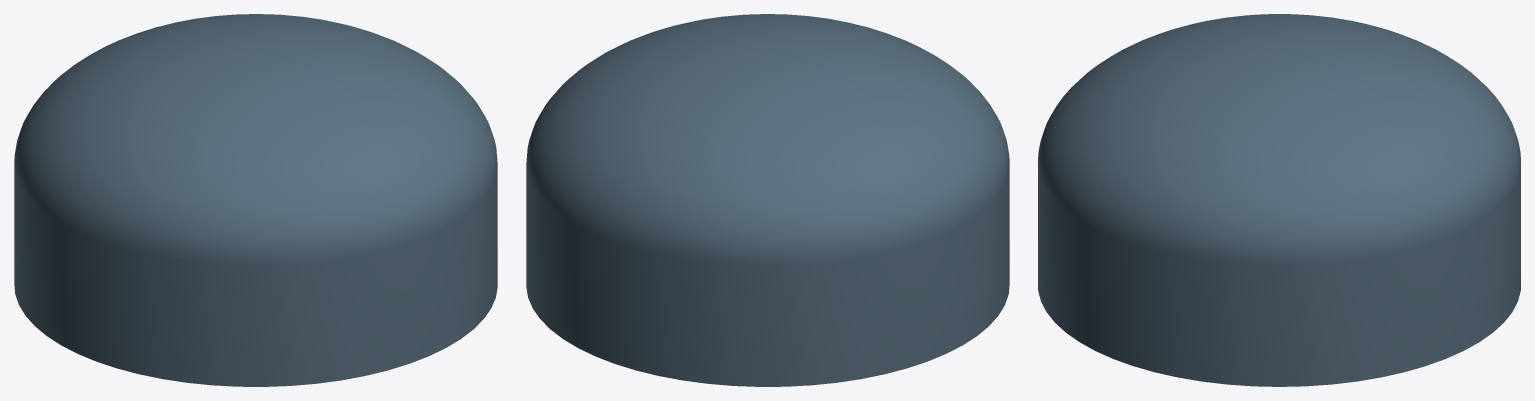
The model's file is zaglushka-57x3-H30.glb.
The picture shows the model from 3 angles, left to right: view 1: azimuth 30°, elevation 25°; view 2: azimuth 150°, elevation 25°; view 3: azimuth 270°, elevation 25°; orthographic projection.
Visible parts, largest first — view 1: Open CASCADE STEP translator 7.9 5; view 2: Open CASCADE STEP translator 7.9 5; view 3: Open CASCADE STEP translator 7.9 5.
Boxes of the visible parts, x1,y1,x2,y2 form: Open CASCADE STEP translator 7.9 5: [14, 14, 497, 386]; Open CASCADE STEP translator 7.9 5: [526, 14, 1009, 386]; Open CASCADE STEP translator 7.9 5: [1038, 14, 1520, 386].
Size of the model in its own units: 57 by 30 by 56.92.
